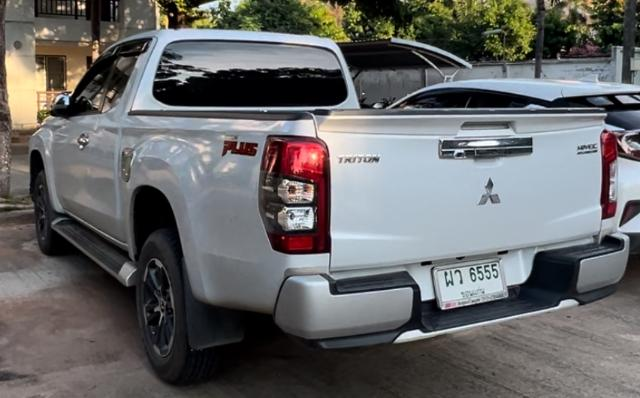pickup-truck: (28, 24, 629, 391)
